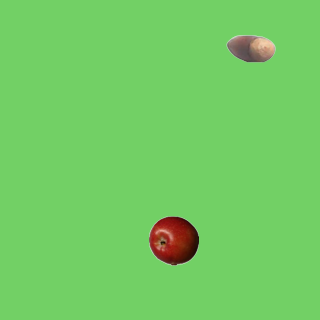Apple Braeburn: (148, 215, 198, 265)
Hazelnut: (225, 23, 275, 73)
